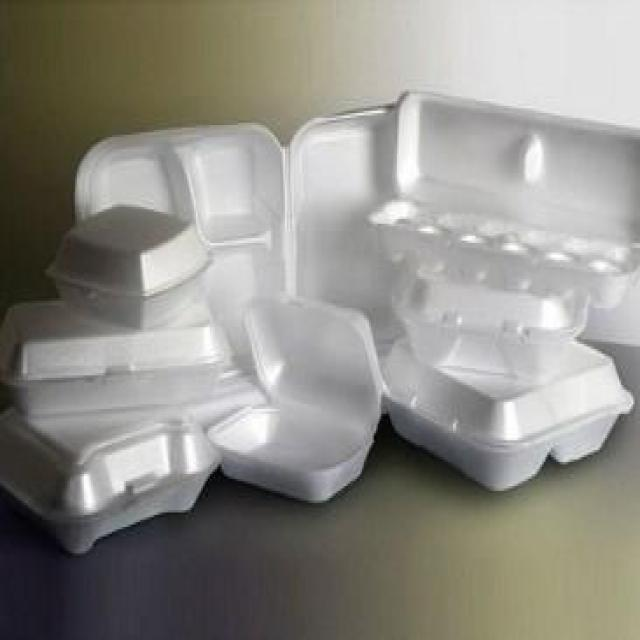styrofoam: (0, 84, 638, 553)
